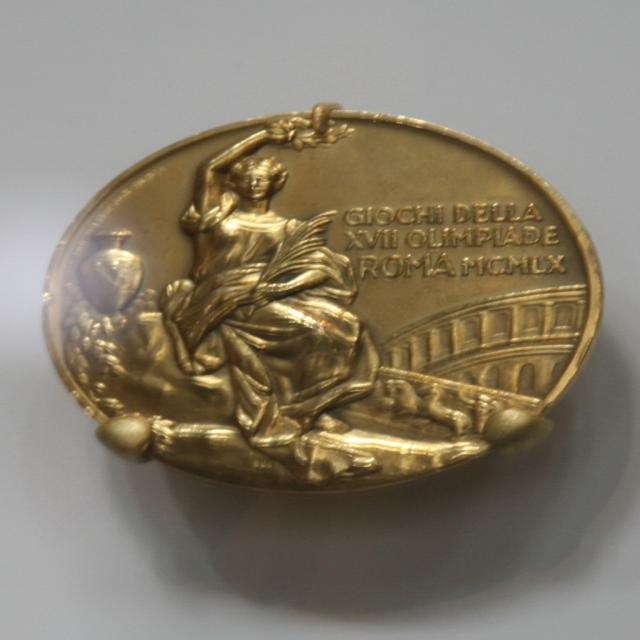Coin: (38, 102, 610, 490)
